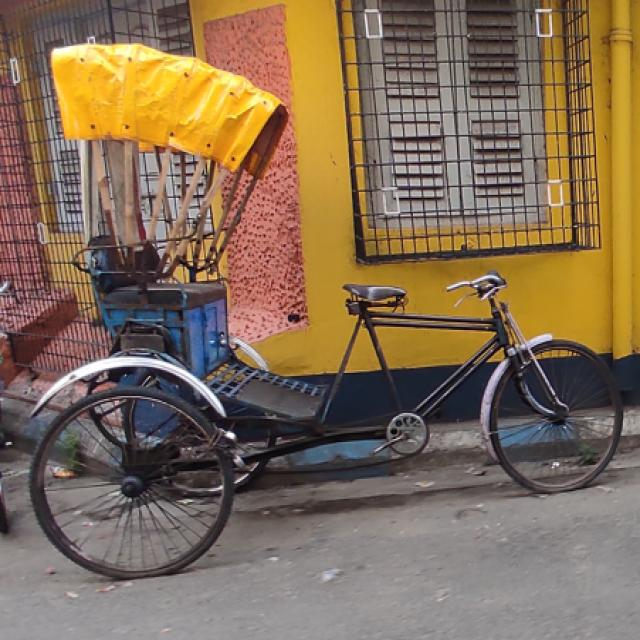rickshaw: (18, 35, 624, 580)
